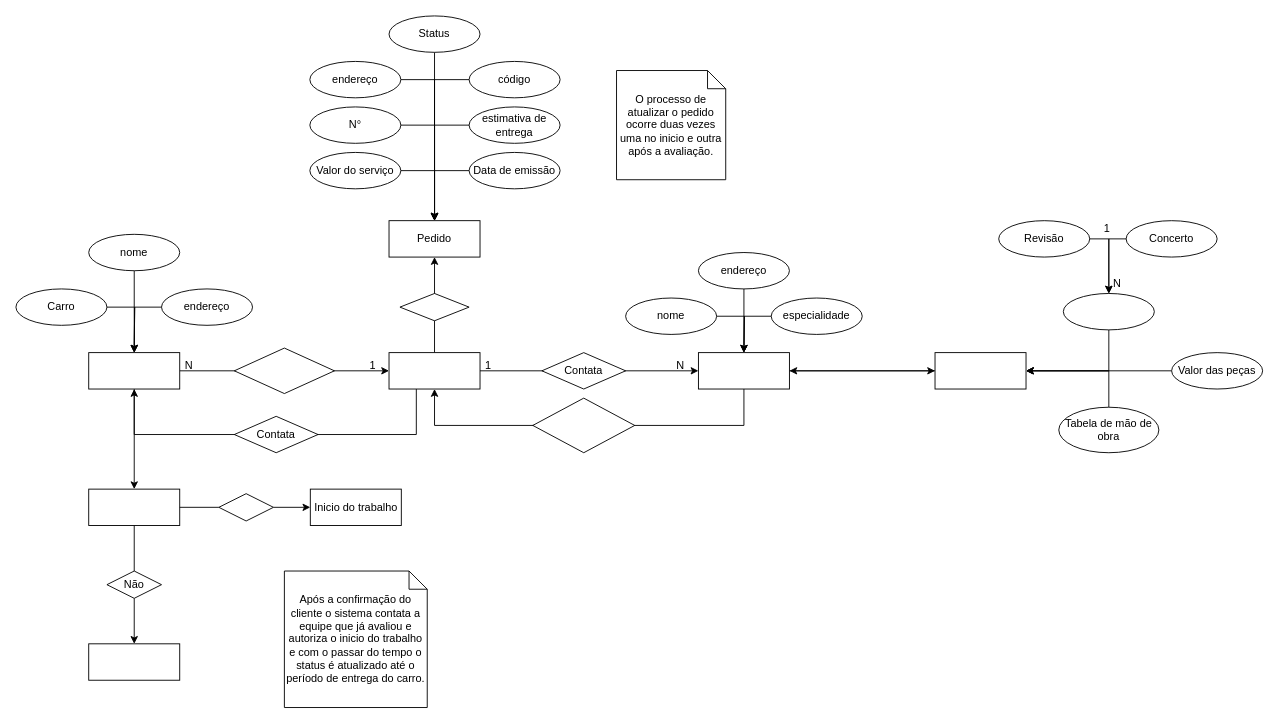
This 1279x723 diagram has some shape labels left out. The centre of each missing label's shape, as x and y in pixels:
Após a avaliação: the point at 583,425
Avaliação: the point at 980,370
Cliente: the point at 134,370
Confirma: the point at 134,507
Cria: the point at 434,307
Equipe: the point at 743,370
Finaliza o pedido: the point at 134,661
Inicio do pedido: the point at 283,370
Sim: the point at 245,507
Sistema: the point at 434,370
Tipo de serviço: the point at 1108,311
